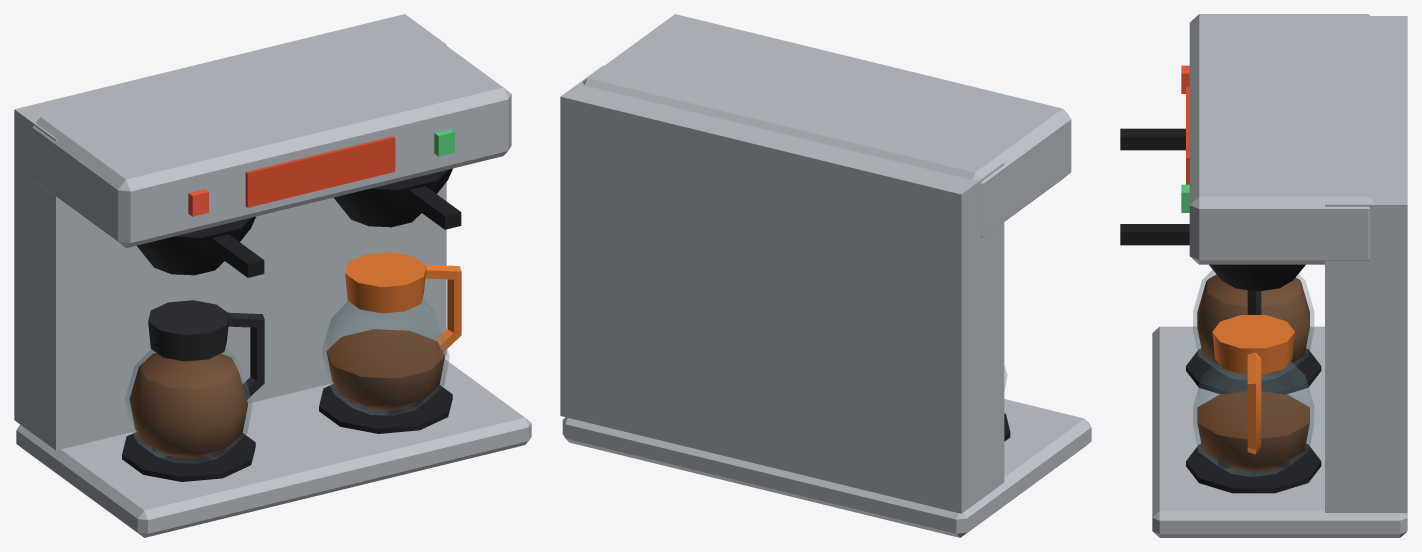
Rendered from Shop_CoffeeMachine.fbx.
3 renders of one model, left to right at view 1: azimuth 30°, elevation 25°; view 2: azimuth 150°, elevation 25°; view 3: azimuth 270°, elevation 25°, orthographic. The views are drawn at different scales.
Parts seen in each view (by area): view 1: Steel, Glass, Coffee, Black, CollarDecaf, CollarRegular, Label; view 2: Steel; view 3: Steel, Glass, Black, Coffee, CollarDecaf, Label, CollarRegular.
Boxes of the visible parts, x1,y1,x2,y2 form: Steel: (14, 14, 531, 537); Glass: (125, 299, 449, 463); Coffee: (129, 329, 444, 458); Black: (122, 168, 461, 481); CollarDecaf: (345, 252, 461, 351); CollarRegular: (148, 300, 264, 399); Label: (245, 136, 395, 207); Steel: (560, 14, 1091, 537); Steel: (1152, 14, 1407, 537); Glass: (1193, 270, 1313, 476); Black: (1120, 128, 1321, 493); Coffee: (1197, 274, 1309, 471); CollarDecaf: (1212, 315, 1294, 454); Label: (1186, 86, 1189, 184); CollarRegular: (1247, 290, 1261, 314).
Bounding box in the file's own units: 240 × 200 × 153.
